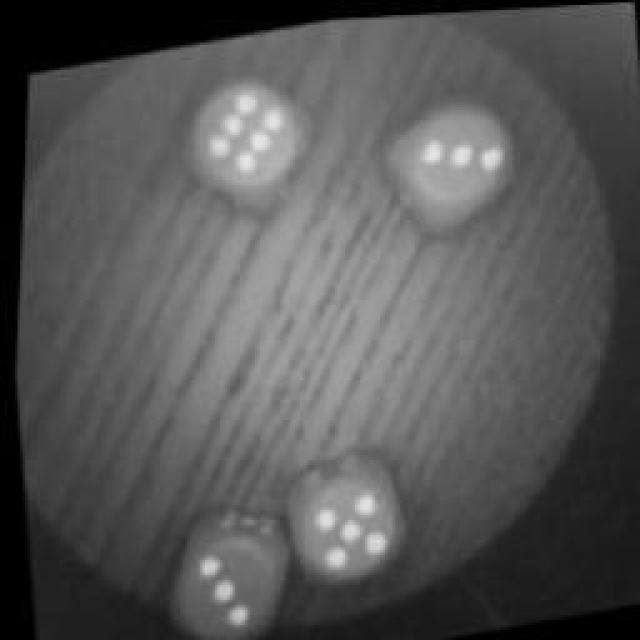dice_3: (372, 82, 526, 238), (150, 492, 305, 640)
dice_5: (266, 436, 422, 592)
dice_6: (160, 51, 318, 221)
